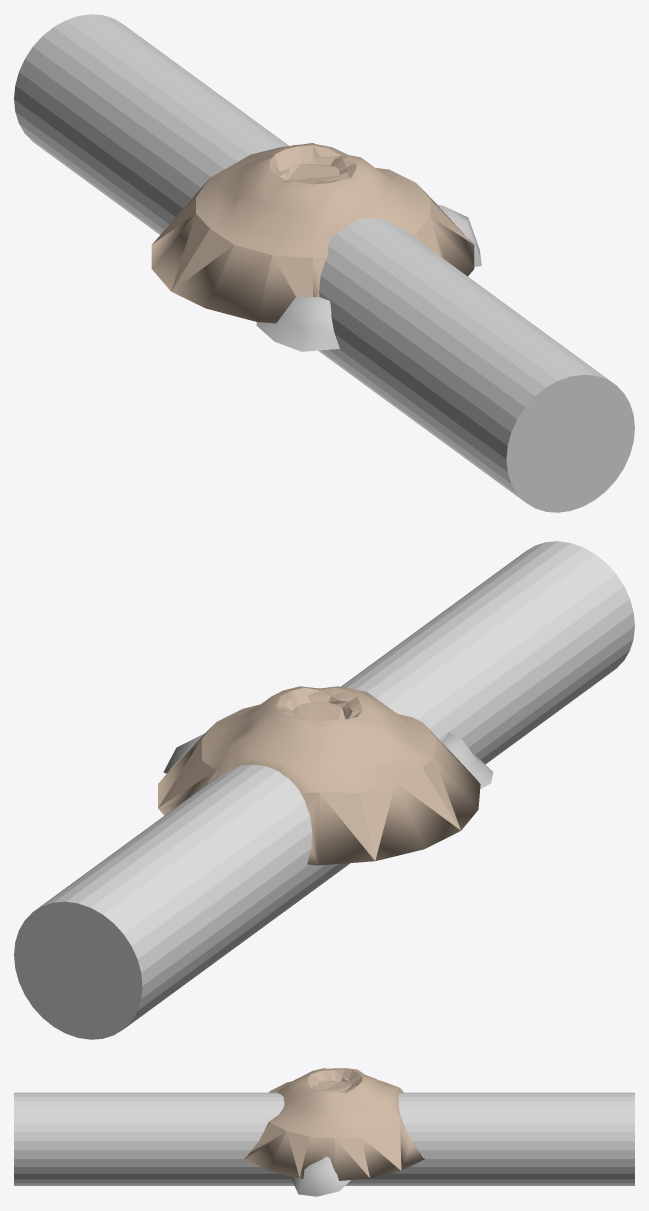
The model's file is berg.fbx.
3 renders of one model, top to bottom at view 1: azimuth 30°, elevation 25°; view 2: azimuth 150°, elevation 25°; view 3: azimuth 270°, elevation 25°, orthographic. The views are drawn at different scales.
Parts seen in each view (by area): view 1: Zylinder, Cylinder001, GeoSphere001; view 2: Zylinder, Cylinder001, GeoSphere001; view 3: Zylinder, Cylinder001, GeoSphere002.
Boxes of the visible parts, x1,y1,x2,y2 form: Zylinder: [14, 14, 634, 512]; Cylinder001: [151, 143, 474, 323]; GeoSphere001: [256, 297, 339, 351]; Zylinder: [14, 541, 634, 1039]; Cylinder001: [158, 686, 480, 865]; GeoSphere001: [441, 732, 493, 788]; Zylinder: [14, 1092, 634, 1185]; Cylinder001: [244, 1068, 425, 1180]; GeoSphere002: [291, 1156, 350, 1196].
Size of the model in its own units: 450 by 237 by 1306.
